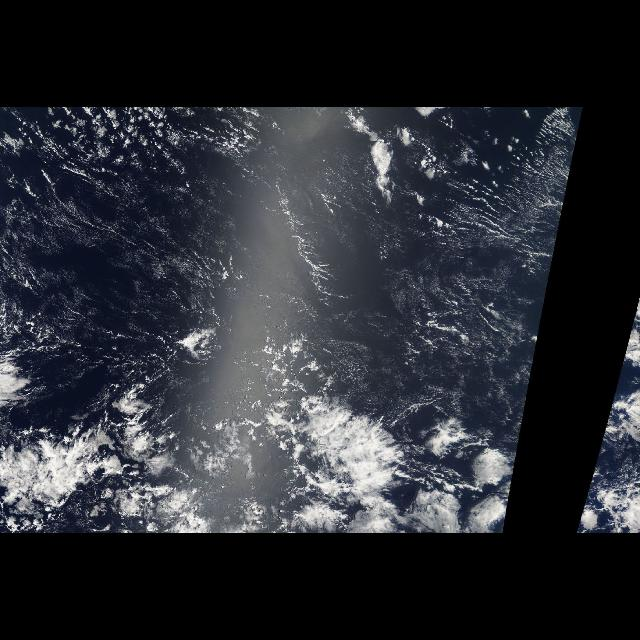Sugar: (2, 151, 564, 405)
